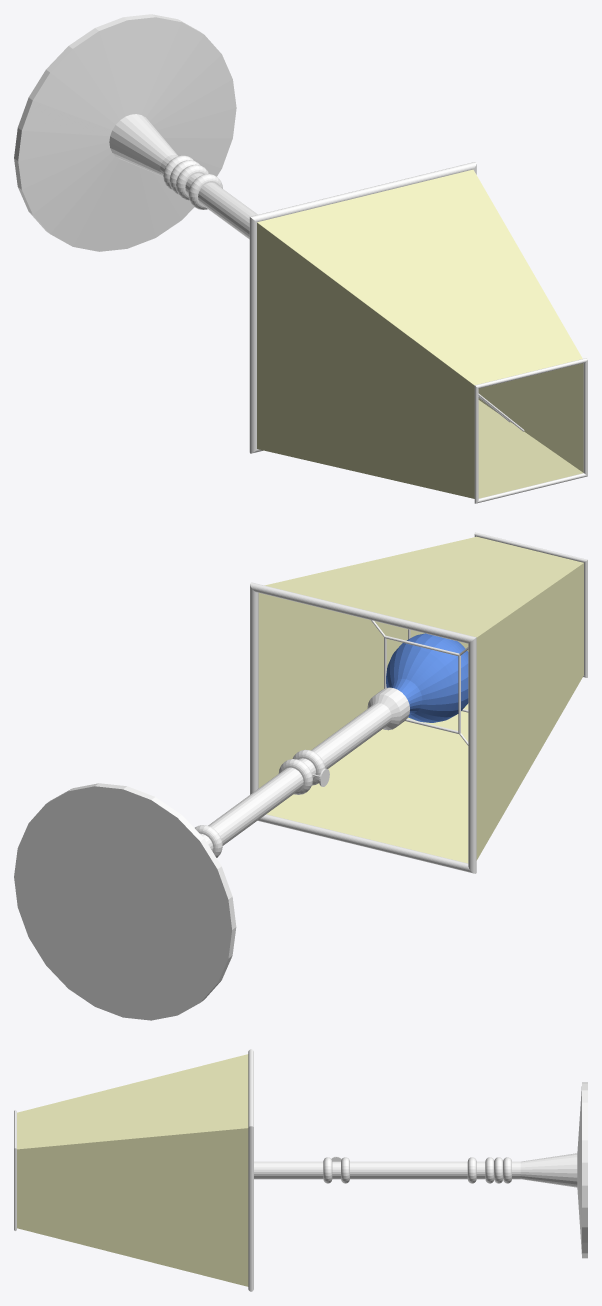
The picture shows the model from 3 angles, top to bottom: view 1: azimuth 30°, elevation 25°; view 2: azimuth 150°, elevation 25°; view 3: azimuth 270°, elevation 25°; orthographic projection. The views are drawn at different scales.
Parts seen in each view (by area): view 1: lamp; view 2: lamp; view 3: lamp.
Part boxes in pixels (x1,y1,x2,y2): lamp: (14,14,587,503); lamp: (14,532,587,1020); lamp: (14,1049,587,1291).
Bounding box in the file's own units: 6.1 × 6.1 × 19.18.
